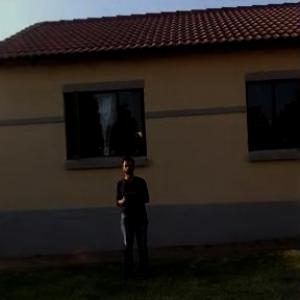follow: (114, 151, 155, 288)
